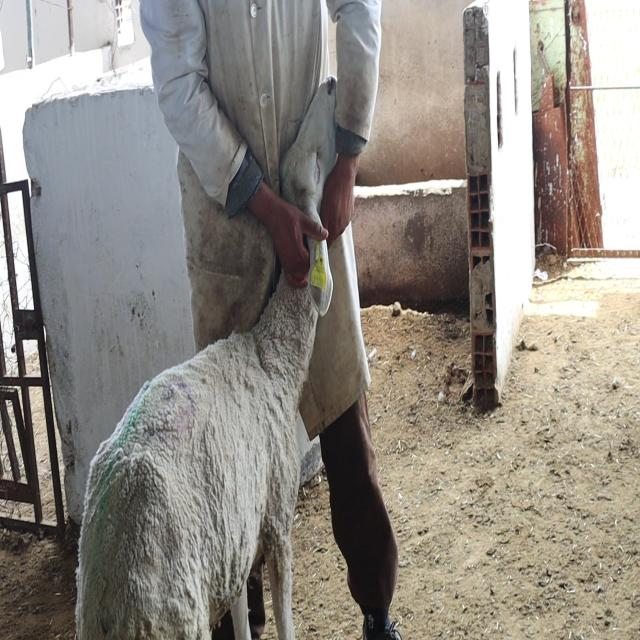Score_1: (76, 239, 333, 639)
